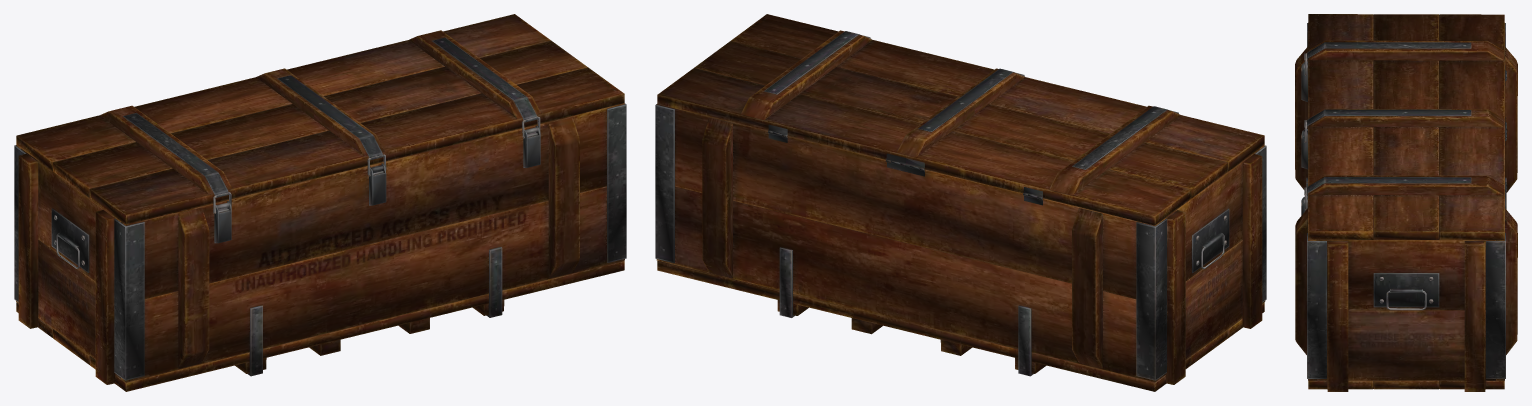
The model's file is wooden_military_crate.glb.
3 renders of one model, left to right at view 1: azimuth 30°, elevation 25°; view 2: azimuth 150°, elevation 25°; view 3: azimuth 270°, elevation 25°, orthographic. The views are drawn at different scales.
Parts seen in each view (by area): view 1: wooden_military_crate; view 2: wooden_military_crate; view 3: wooden_military_crate.
Boxes of the visible parts, x1=… form: wooden_military_crate: x1=14, y1=14, x2=626, y2=391; wooden_military_crate: x1=655, y1=14, x2=1266, y2=391; wooden_military_crate: x1=1295, y1=14, x2=1517, y2=391.
Bounding box in the file's own units: 1.24 × 0.4639 × 0.5197.
1 material, 1 textured.
